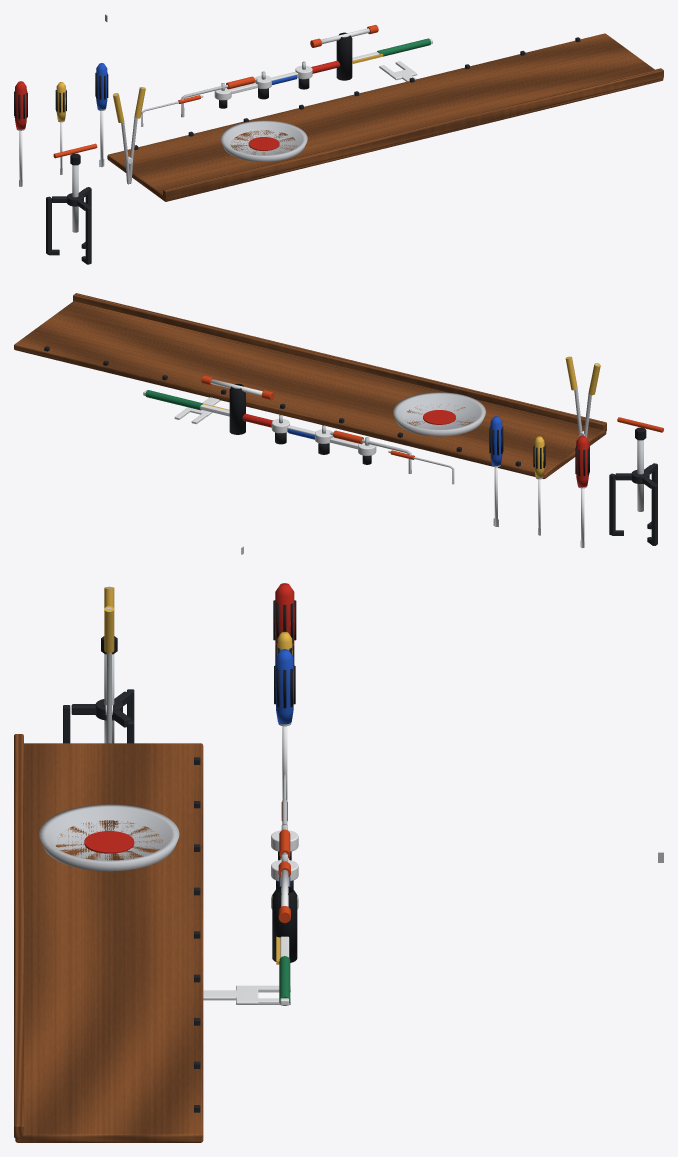
The model's file is tools-parts.glb.
The picture shows the model from 3 angles, top to bottom: view 1: azimuth 30°, elevation 25°; view 2: azimuth 150°, elevation 25°; view 3: azimuth 270°, elevation 25°; orthographic projection. The views are drawn at different scales.
Visible parts, largest first — view 1: ToolRack, MagDish, Puller, SparkSocket, TorqueWrench, Pliers, DriverPH2, DriverFlat, Socket13, Socket10, DriverPH1, HexKey4 (+1 smaller); view 2: ToolRack, MagDish, Puller, SparkSocket, TorqueWrench, DriverPH2, DriverFlat, Pliers, Socket13, DriverPH1, Socket10, HexKey4; view 3: ToolRack, MagDish, Puller, SparkSocket, DriverFlat, Pliers, DriverPH2, Spanner, TorqueWrench.
Part boxes in pixels (x1,y1,x2,y2): ToolRack: (107, 33, 663, 201); MagDish: (220, 120, 307, 161); Puller: (46, 143, 97, 264); SparkSocket: (310, 25, 378, 80); TorqueWrench: (295, 38, 432, 89); Pliers: (113, 87, 145, 184); DriverPH2: (14, 81, 27, 186); DriverFlat: (95, 63, 108, 167); Socket13: (255, 61, 340, 99); Socket10: (214, 75, 298, 108); DriverPH1: (55, 82, 66, 174); HexKey4: (181, 76, 257, 117); ToolRack: (14, 293, 606, 478); MagDish: (393, 392, 485, 436); Puller: (609, 417, 663, 545); SparkSocket: (201, 375, 274, 434); TorqueWrench: (143, 390, 289, 444); DriverPH2: (575, 435, 589, 548); DriverFlat: (489, 416, 503, 526); Pliers: (565, 356, 600, 437); Socket13: (242, 413, 332, 454); DriverPH1: (533, 436, 545, 535); Socket10: (287, 429, 376, 464); HexKey4: (330, 430, 411, 473); ToolRack: (14, 734, 203, 1142); MagDish: (39, 804, 179, 871); Puller: (63, 636, 134, 743); SparkSocket: (272, 861, 297, 962); DriverFlat: (274, 649, 295, 800); Pliers: (104, 586, 114, 743); DriverPH2: (273, 583, 296, 645); Spanner: (203, 985, 290, 1004); TorqueWrench: (271, 895, 298, 1005).
Size of the model in its own units: 8.62 by 2.14 by 5.18.
10 materials, 1 textured.
